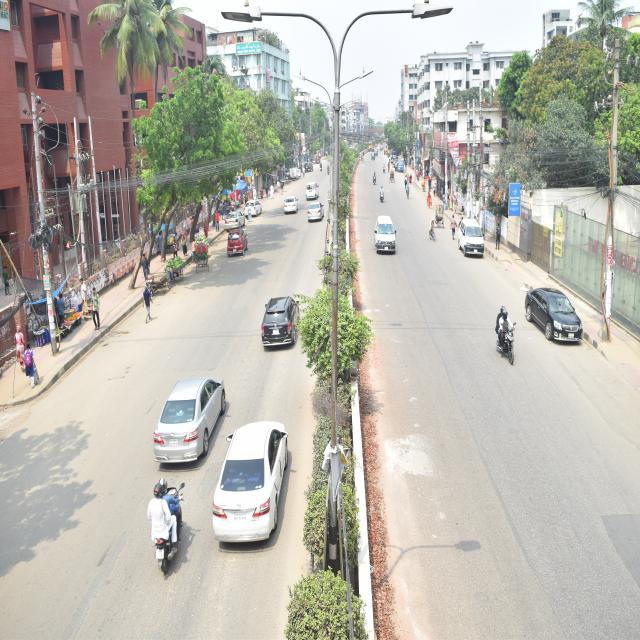car: (210, 419, 290, 554), (150, 368, 227, 467), (261, 289, 303, 355), (226, 230, 252, 260), (241, 197, 268, 218), (280, 193, 302, 216), (305, 201, 326, 225), (226, 209, 246, 234), (305, 179, 322, 203)
microbus: (452, 213, 490, 260), (371, 213, 398, 260)
motorbike: (522, 280, 588, 351), (150, 486, 188, 573), (490, 319, 519, 366), (377, 186, 388, 208)
